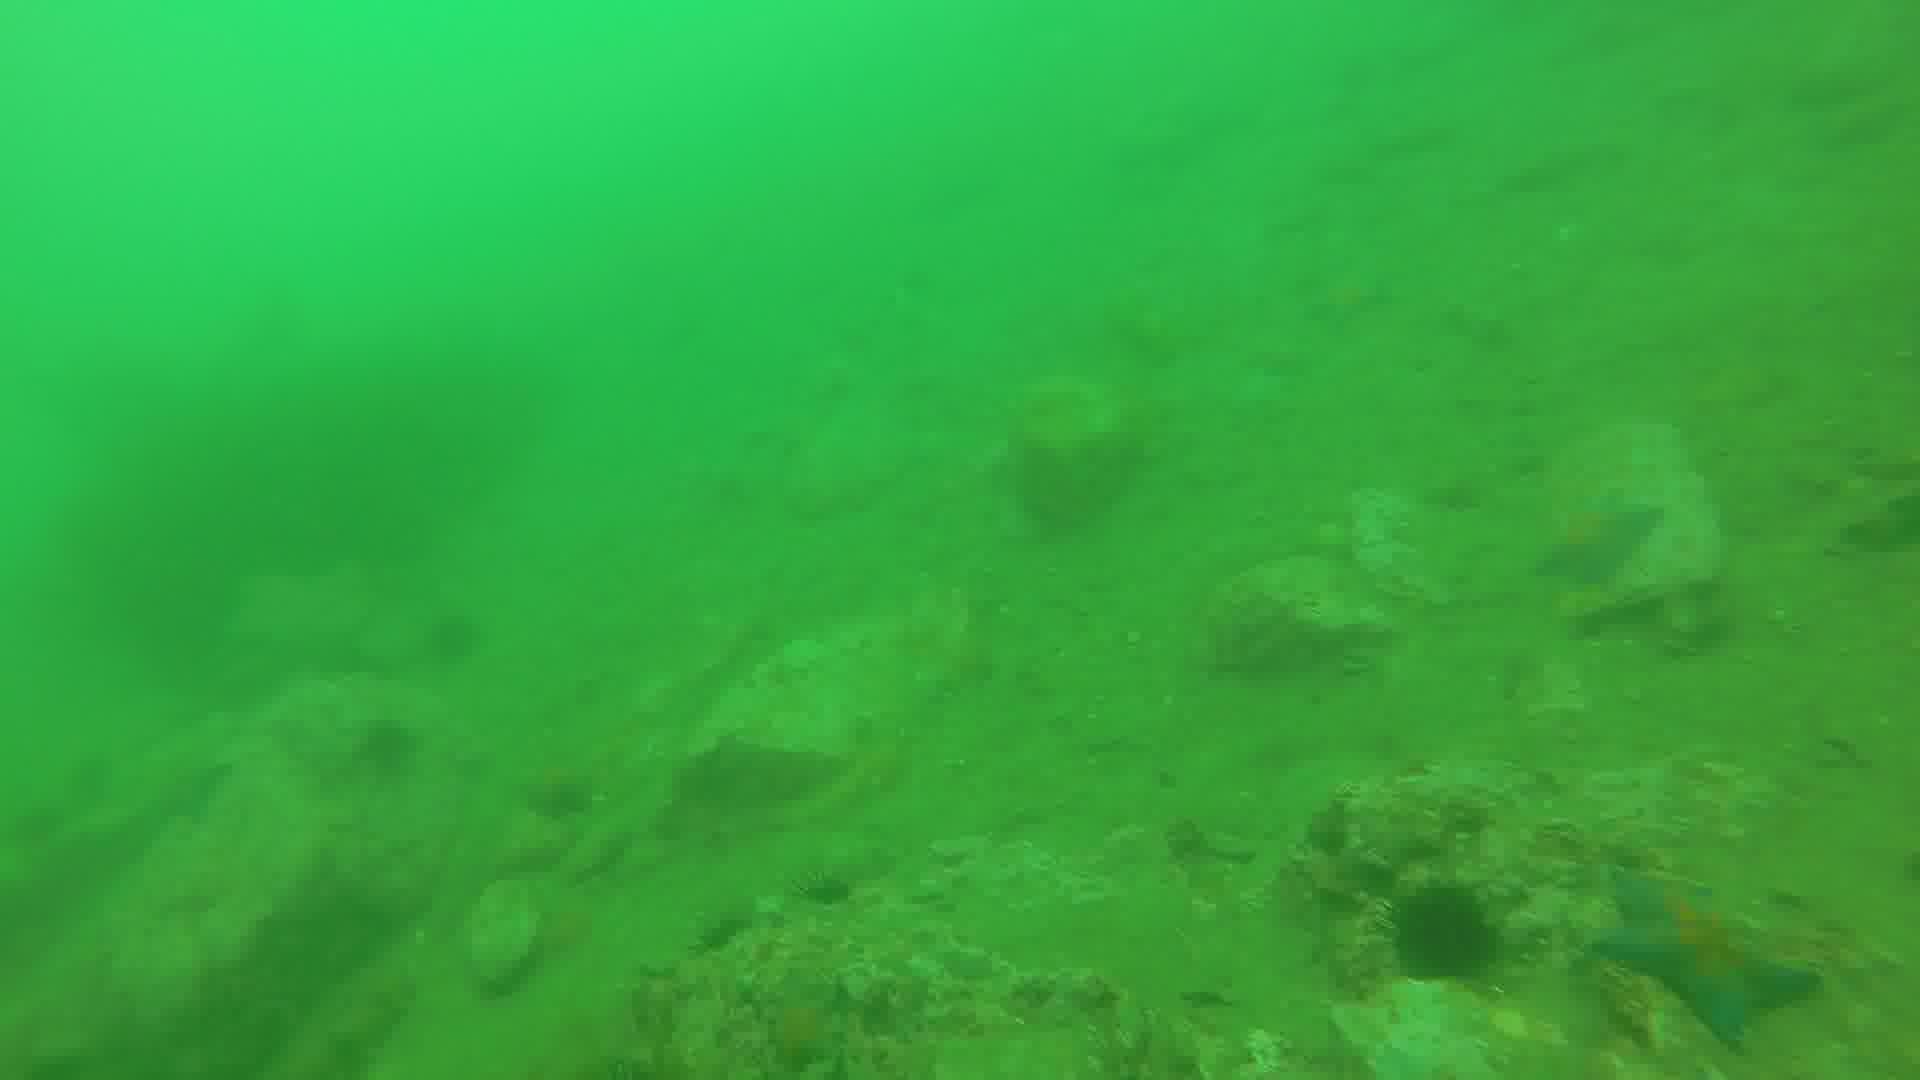echinus: (1381, 881, 1511, 990), (688, 913, 777, 977), (798, 869, 869, 935), (349, 712, 427, 765), (435, 609, 495, 670)
starfish: (1600, 865, 1818, 1052), (1534, 495, 1669, 597)
